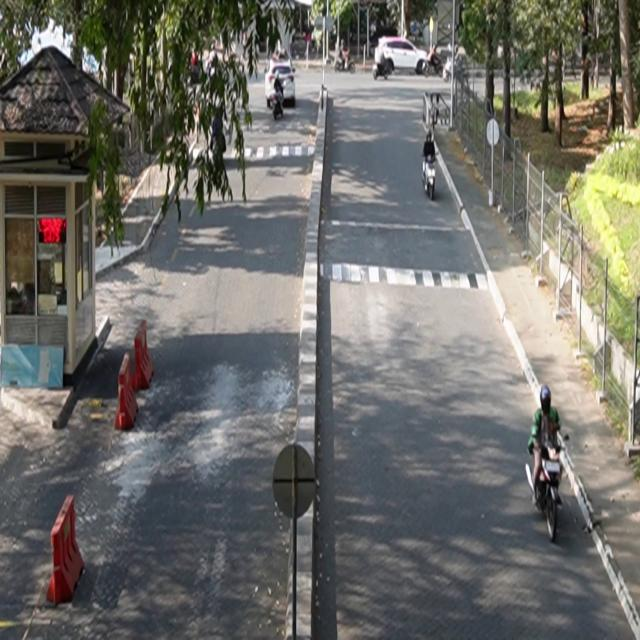car: (374, 37, 429, 79), (266, 59, 297, 110)
